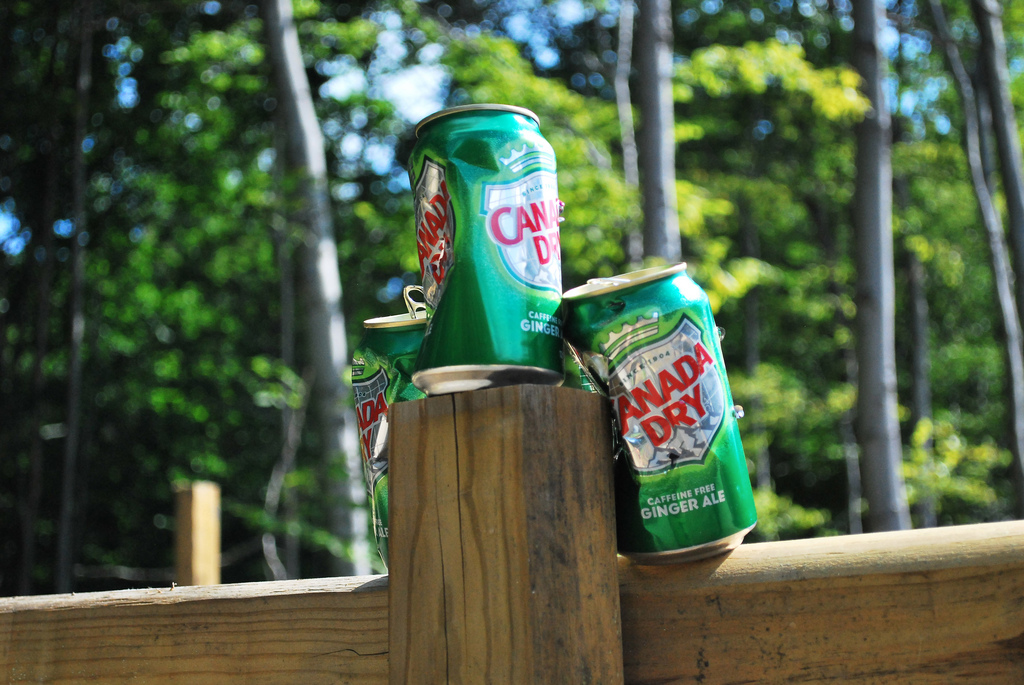Lata: (554, 261, 763, 567)
